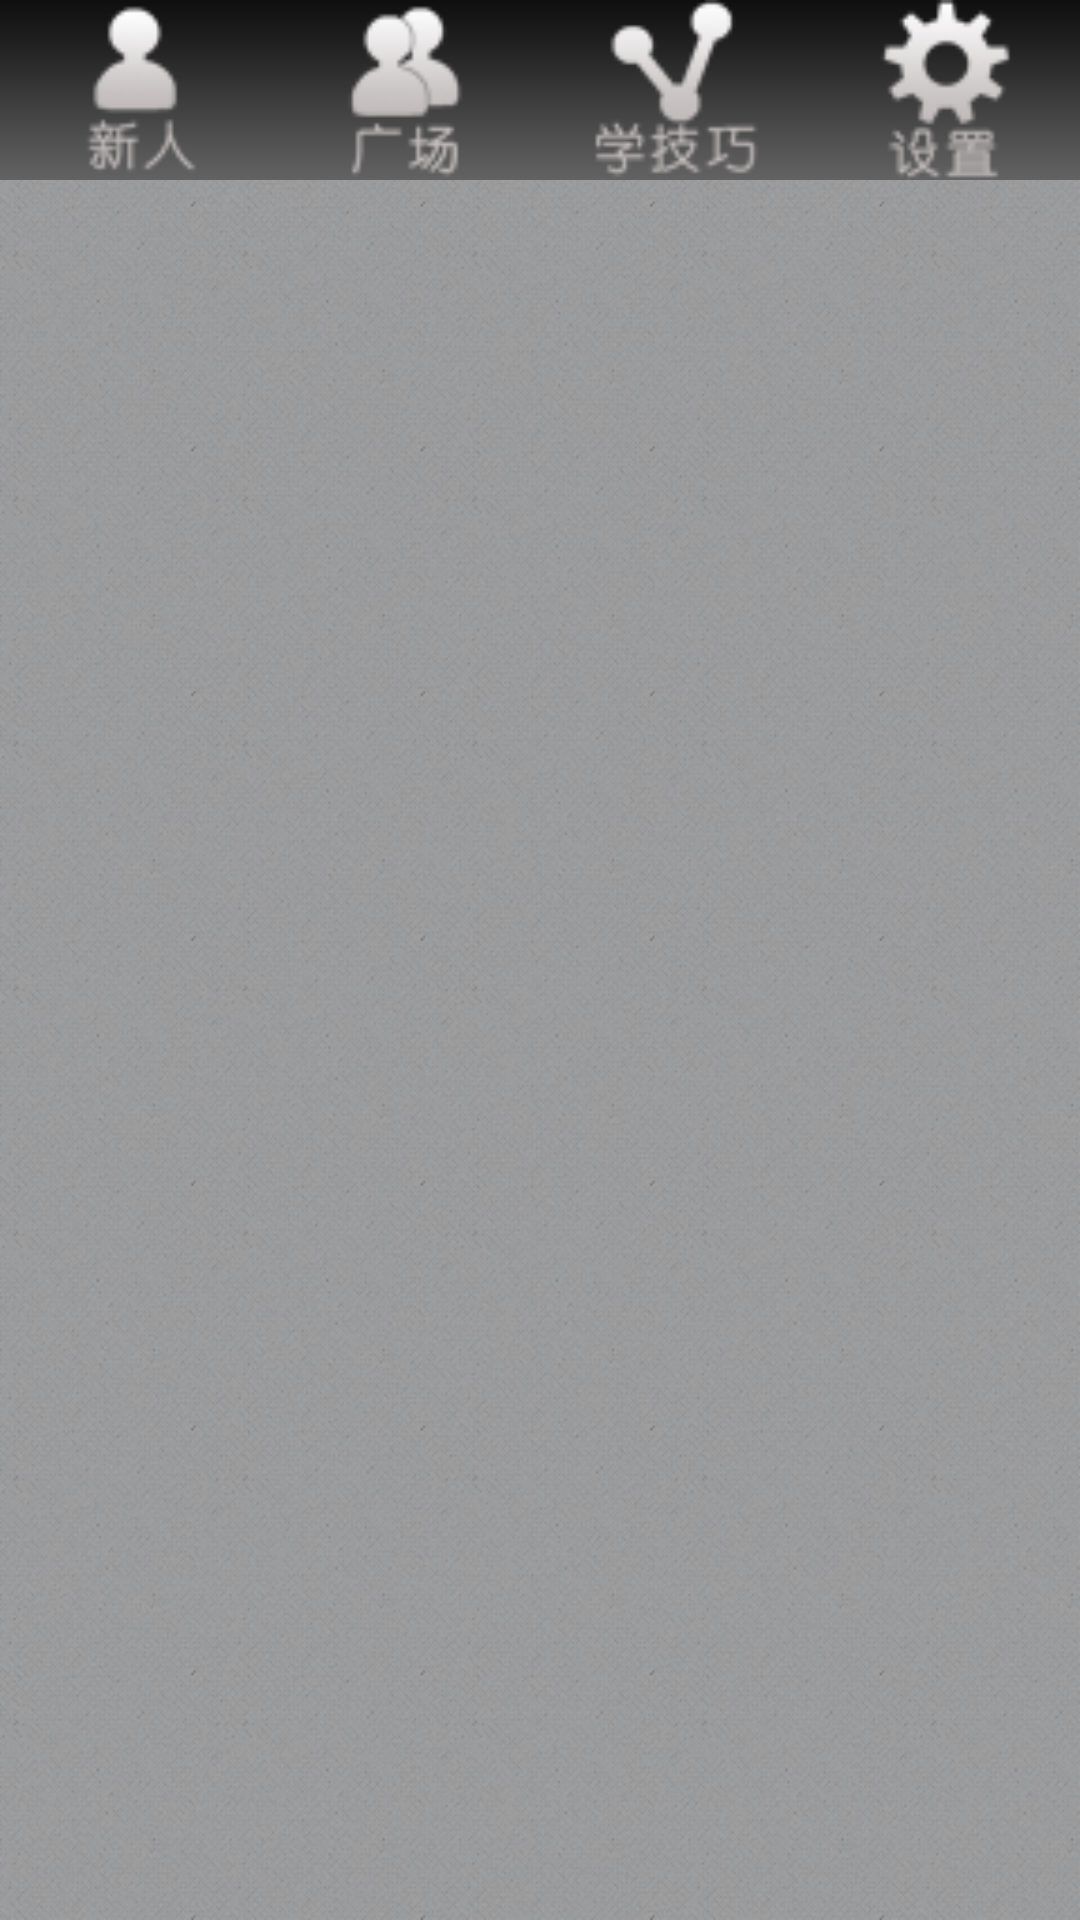

Screen size 1080 x 1920. Icon name, then its center in pixels as point (x, y):
people: point (405, 90)
share: point (675, 90)
